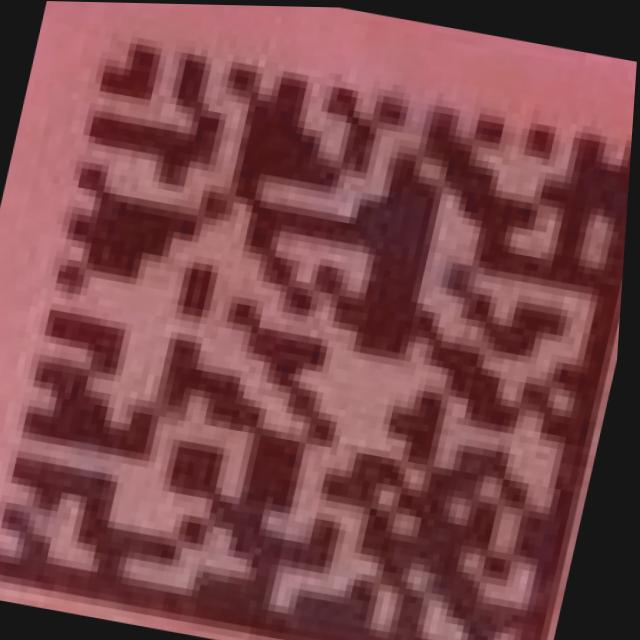QR_CODE: (0, 32, 638, 640)
